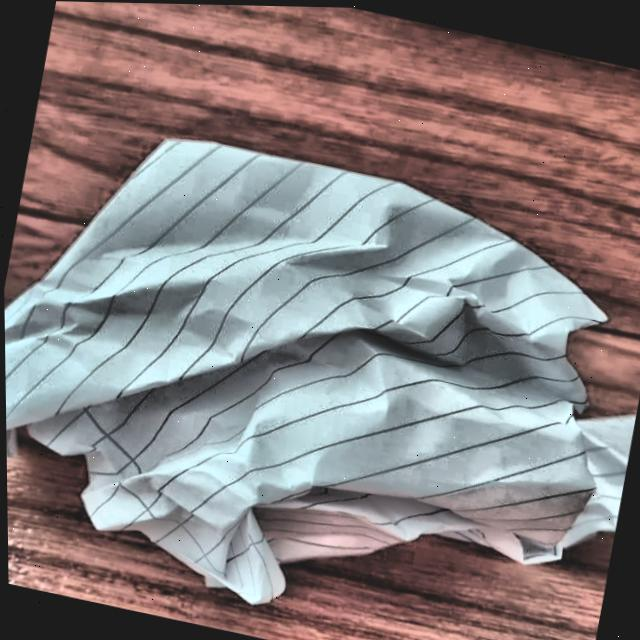paper: (1, 97, 640, 640)
